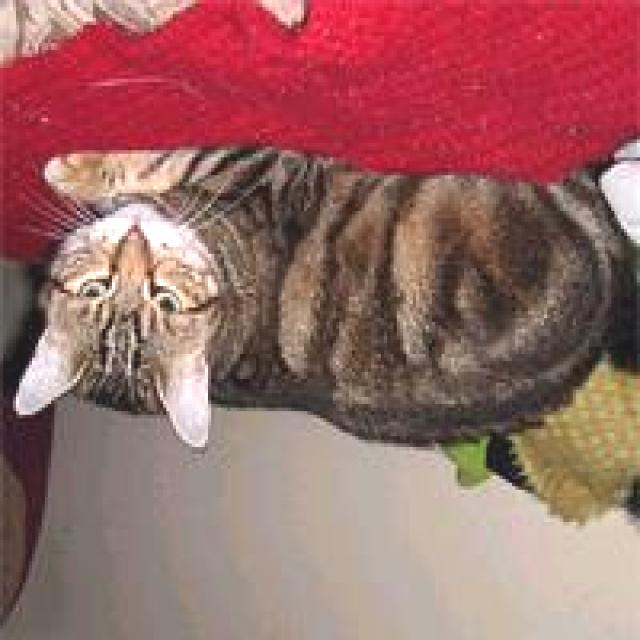Kucing: (0, 83, 624, 485)
